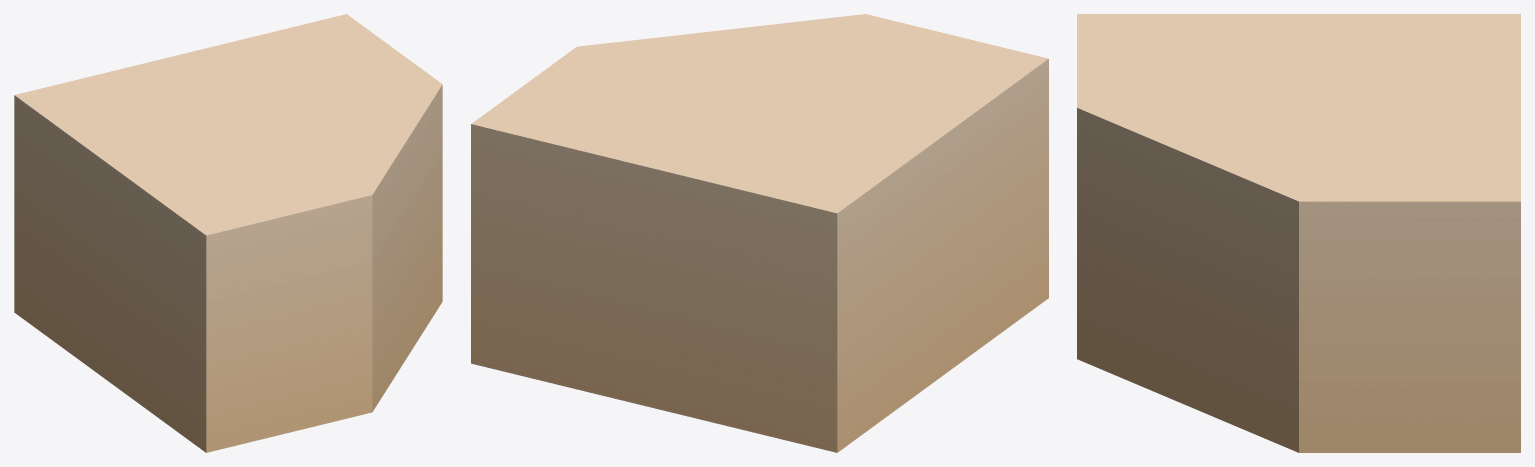
The model's file is building_corner.glb.
3 views of the same model, side by side, from view 1: azimuth 30°, elevation 25°; view 2: azimuth 150°, elevation 25°; view 3: azimuth 270°, elevation 25° (orthographic). The views are drawn at different scales.
Visible parts, largest first — view 1: building-corner; view 2: building-corner; view 3: building-corner.
Boxes of the visible parts, x1,y1,x2,y2 form: building-corner: [14, 14, 442, 452]; building-corner: [471, 14, 1048, 452]; building-corner: [1077, 14, 1520, 452].
Size of the model in its own units: 1 by 0.625 by 1.
1 material, 1 textured.
